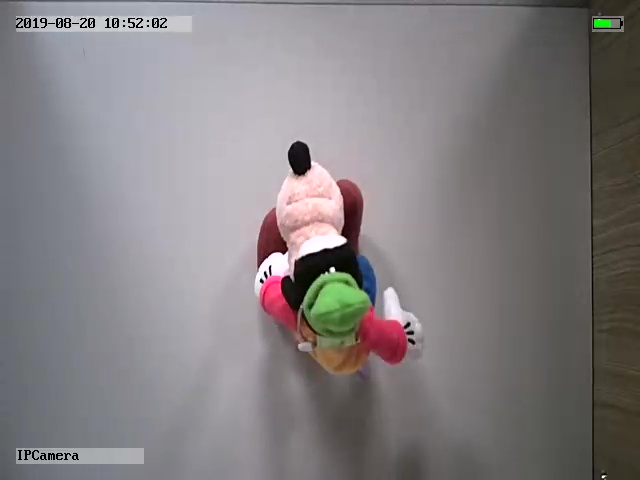goofy: (250, 140, 424, 374)
